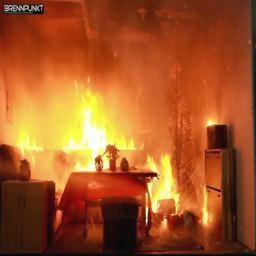fire: (8, 60, 177, 190)
